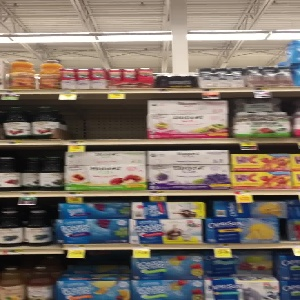void: (61, 96, 146, 141)
